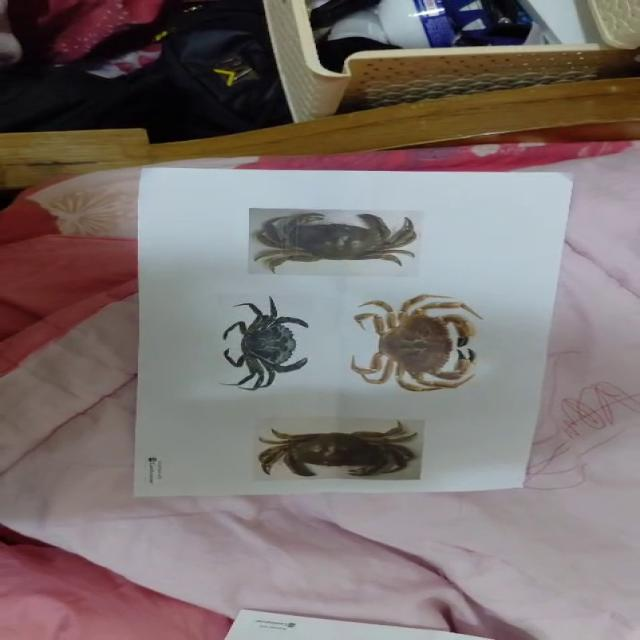egc: (222, 297, 308, 390)
